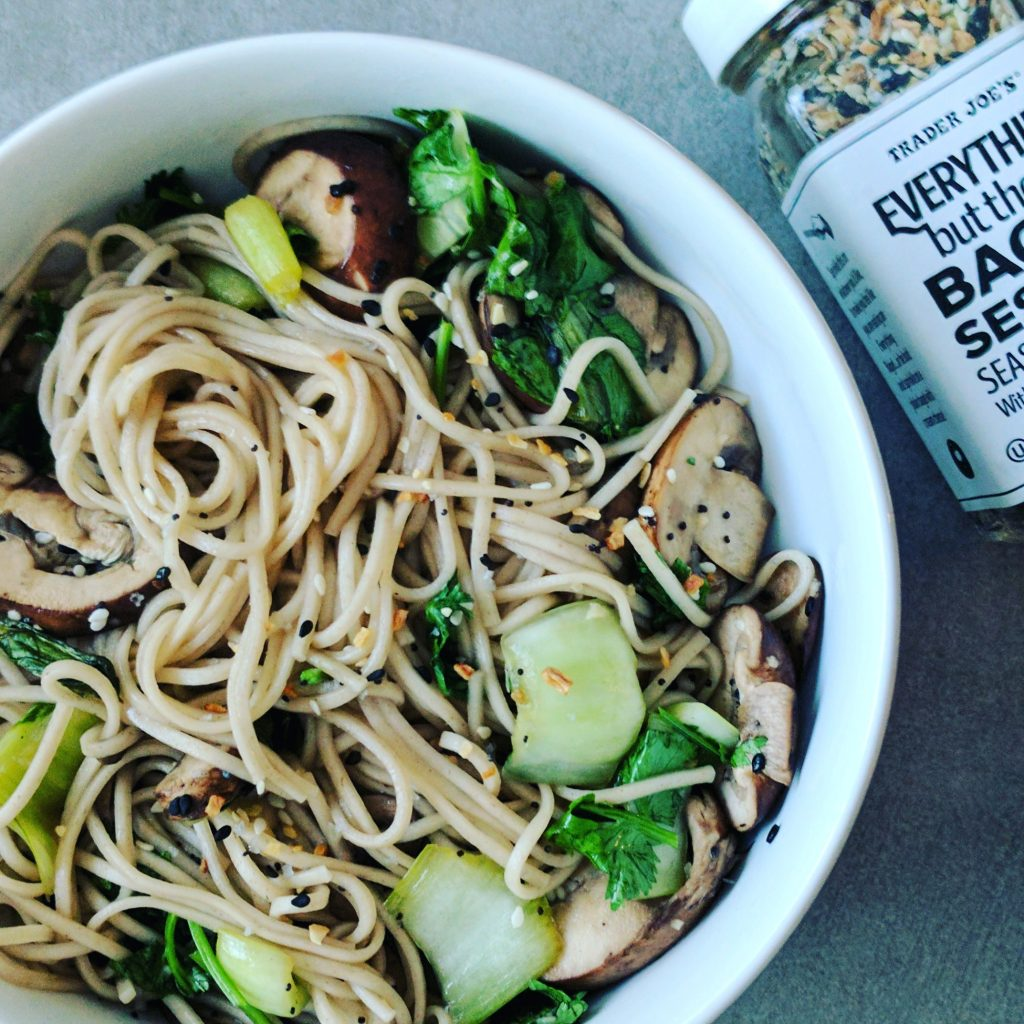Soba: (39, 125, 787, 1024)
